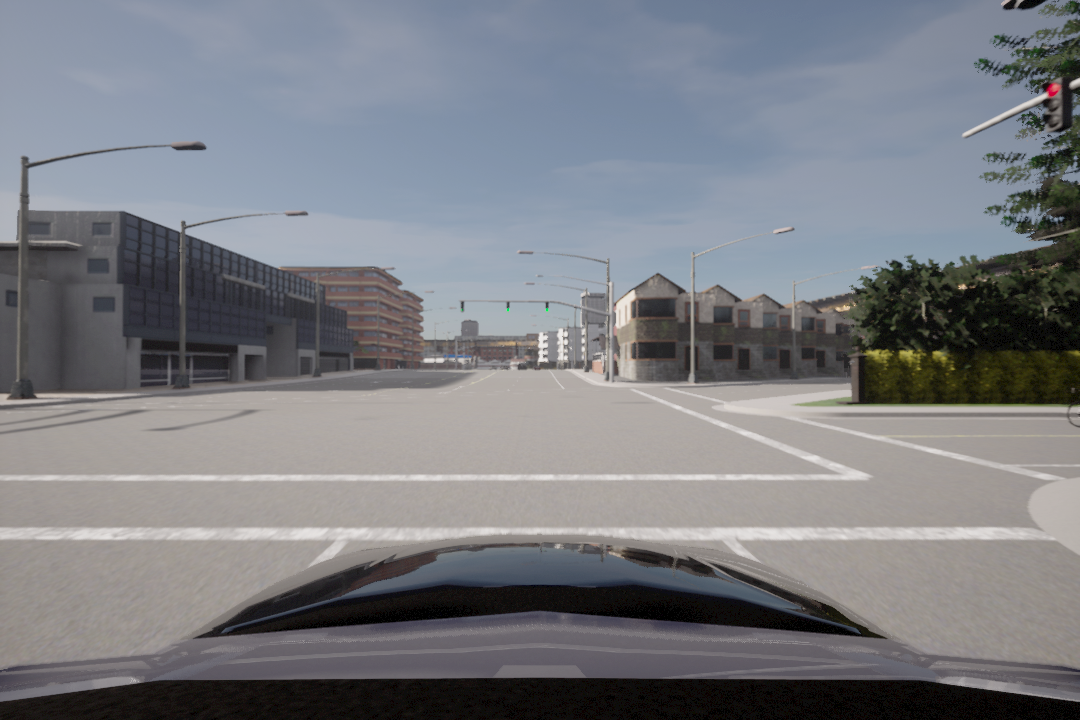TrafficLight: (1044, 80, 1072, 137)
